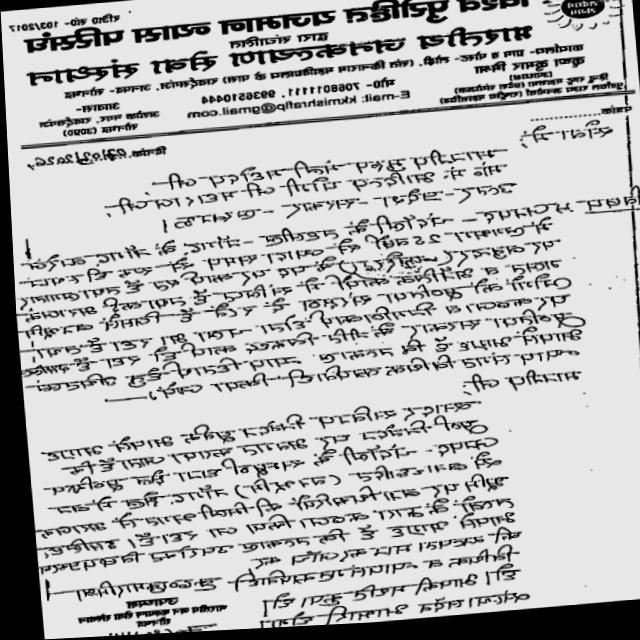letterhead: (0, 0, 624, 144)
